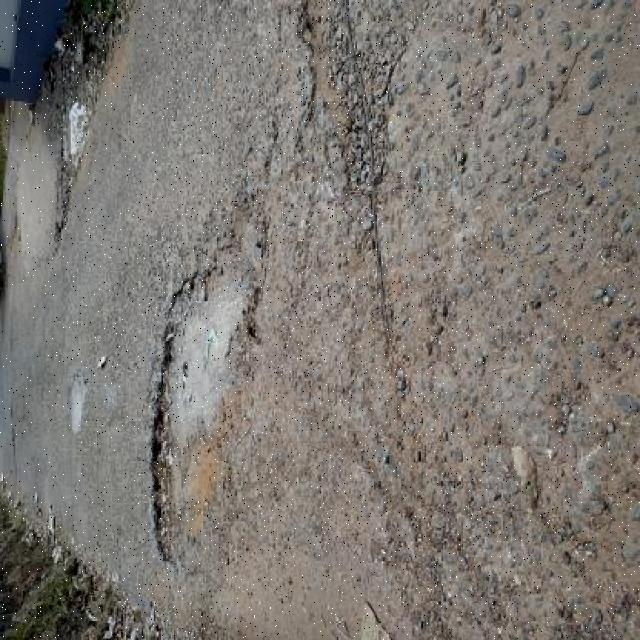Pothole: (151, 194, 263, 560), (298, 0, 409, 252)
